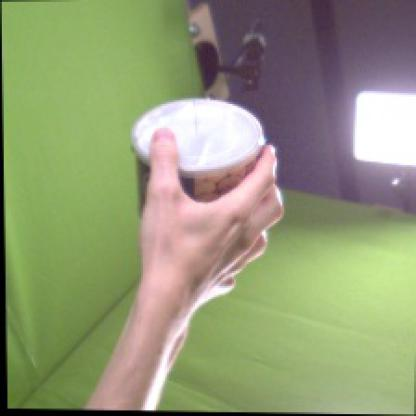Hand: (139, 127, 285, 303)
